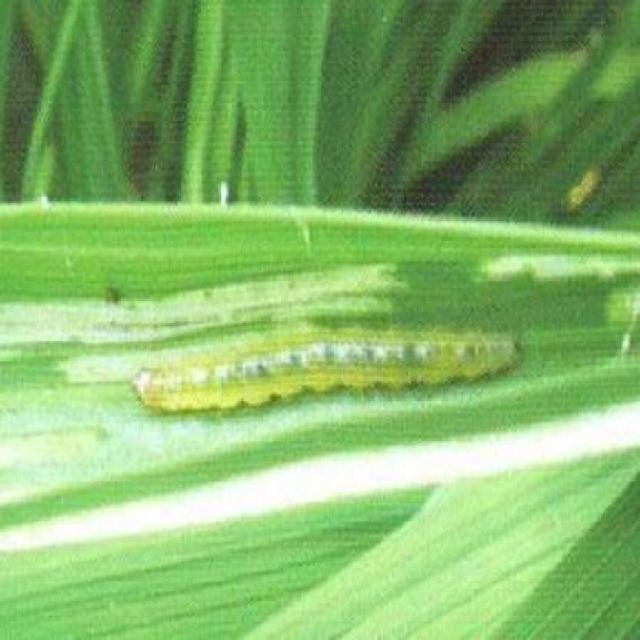leaf-folder: (166, 290, 532, 416)
